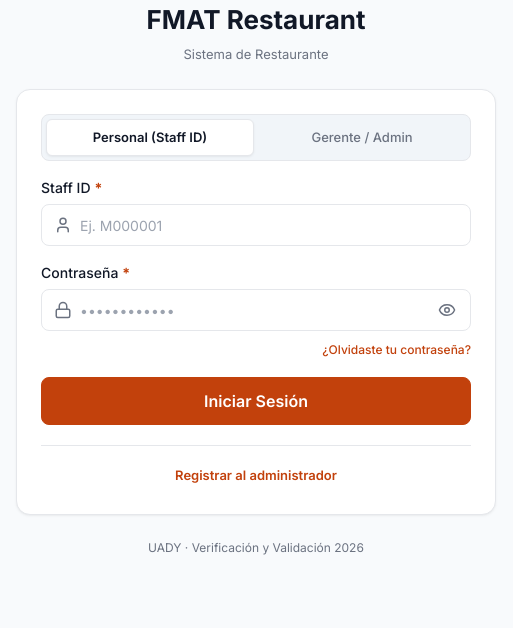
AuthCard Component - Error Presentation & Setup Status UX › LoginForm › displays backend error message in alert banner above submit button and not inside inputs
The width and height of the screenshot is (513, 628).
Type "M000001" into the field labelled "Staff ID *" at (271, 225), box [72, 205, 470, 245]
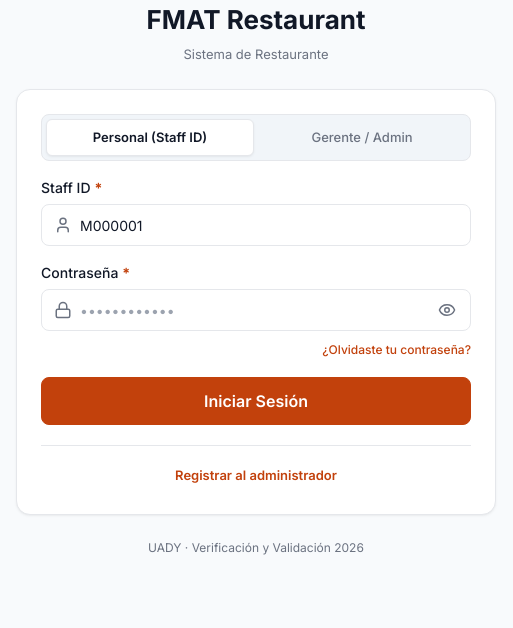
Type "wrongpassword" into the password field labelled "Contraseña *" at (271, 310), box [72, 290, 470, 330]
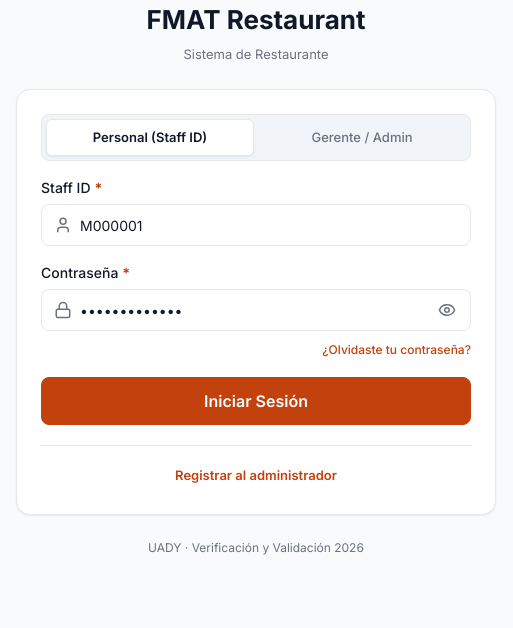
Submit the form, box [41, 114, 471, 425]
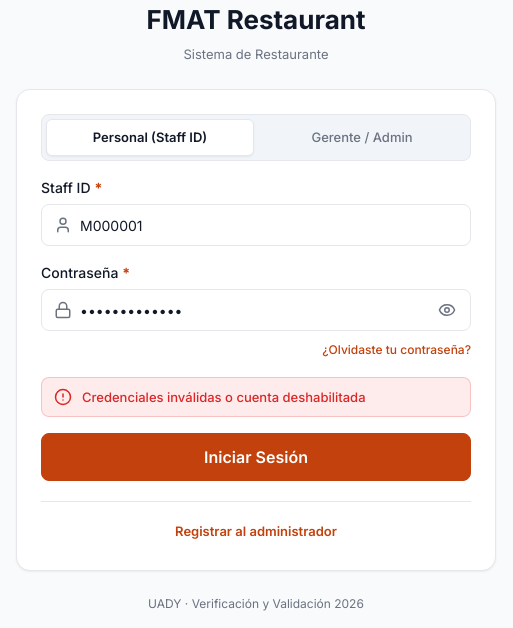
Expected: the message "Credenciales inválidas o cuenta deshabilitada" is shown, [41, 377, 471, 417]
Expected: the message reads "Credenciales inválidas o cuenta deshabilitada", [82, 389, 366, 405]
